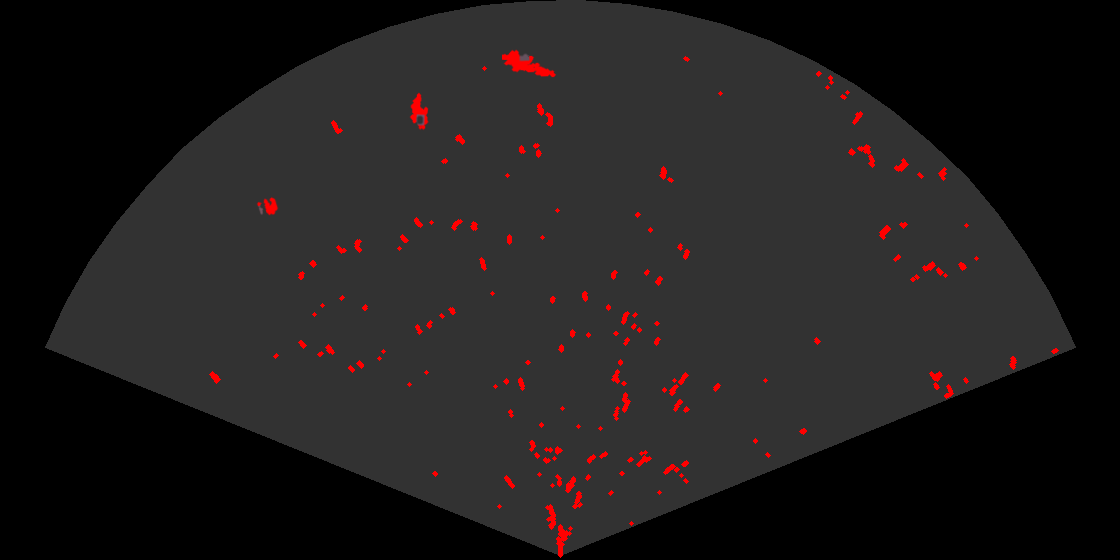AUV: (408, 91, 430, 132)
ball: (255, 195, 280, 217)
frogman: (502, 48, 557, 79)
